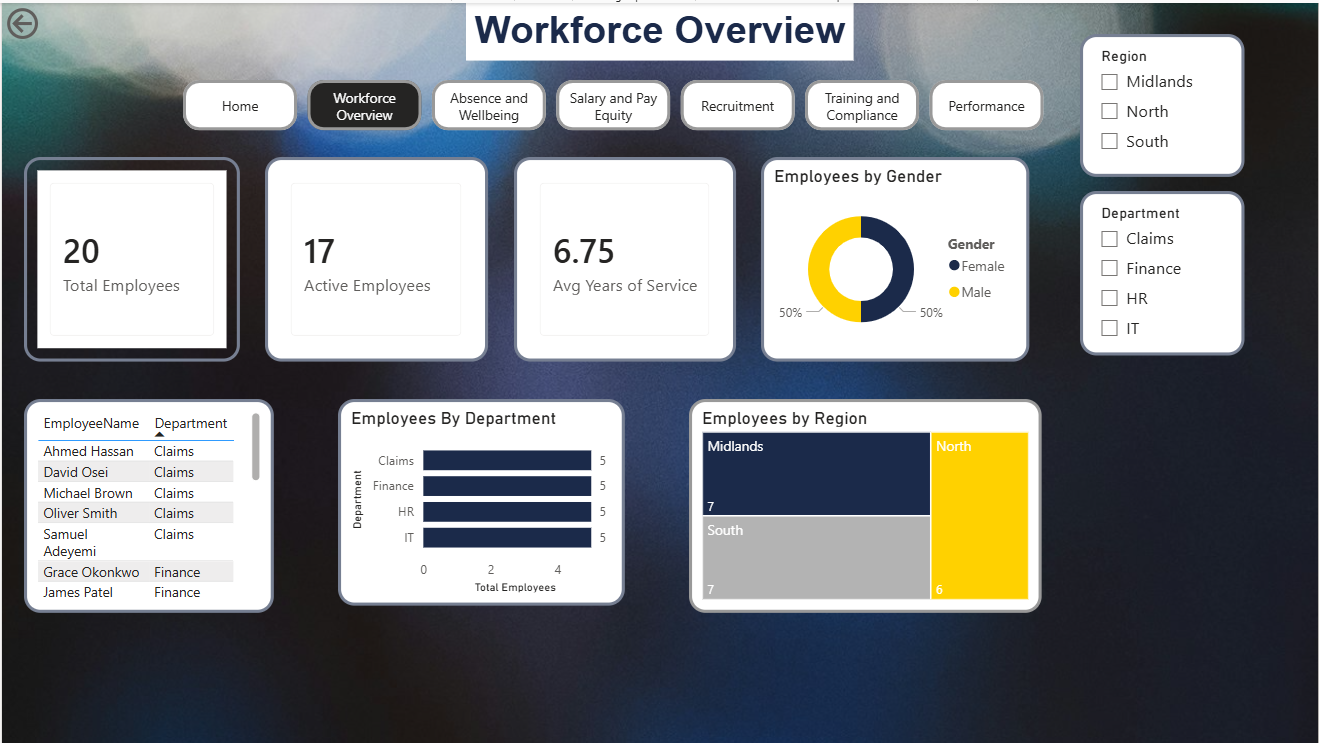

The dashboard page shown, as its layout file describes it:
{"tool":"powerbi","page":{"name":"Workforce Overview","canvas":[1280,720],"ordinal":1},"visuals":[{"type":"textbox","box":[451.3,0,377.4,56.4],"z":0},{"type":"cardVisual","fields":{"Data":["CountNonNull(vw_WorkforceOverview.EmployeeID)"]},"box":[21.4,149.8,210.1,199.4],"z":1000},{"type":"pageNavigator","box":[265.5,74.9,748.9,49.6],"z":2000},{"type":"cardVisual","fields":{"Data":["CountNonNull(vw_WorkforceOverview.EmployeeID)"]},"box":[256.1,149.8,216.9,199.4],"z":3000},{"type":"cardVisual","fields":{"Data":["Avg(vw_WorkforceOverview.YearsOfService)"]},"box":[497.7,149.8,215.9,199.4],"z":4000},{"type":"donutChart","title":"Employees by Gender","fields":{"Y":["CountNonNull(vw_WorkforceOverview.EmployeeID)"],"Category":["vw_WorkforceOverview.Gender"]},"box":[738.2,149.8,260.7,199.4],"z":5000},{"type":"clusteredBarChart","title":"Employees By Department","fields":{"Category":["vw_WorkforceOverview.Department"],"Y":["CountNonNull(vw_WorkforceOverview.EmployeeID)"]},"box":[228.3,435.7,249,208.1],"z":6000},{"type":"clusteredBarChart","title":"Employees by Region","fields":{"Y":["CountNonNull(vw_WorkforceOverview.EmployeeID)"],"Category":["vw_WorkforceOverview.Region"]},"box":[481.9,435.7,249,213],"z":7000},{"type":"clusteredBarChart","title":"Employees by Job Grade","fields":{"Y":["CountNonNull(vw_WorkforceOverview.EmployeeID)"],"Category":["vw_WorkforceOverview.JobGrade"]},"box":[735.6,435.7,208.1,215.9],"z":8000},{"type":"clusteredBarChart","title":"Employees by Ethnicity","fields":{"Y":["CountNonNull(vw_WorkforceOverview.EmployeeID)"],"Category":["vw_WorkforceOverview.Ethnicity"]},"box":[948.3,435.7,331.7,215.9],"z":9000},{"type":"slicer","fields":{"Values":["vw_WorkforceOverview.Region"]},"box":[1048.5,30.2,160.5,139.1],"z":10000},{"type":"slicer","fields":{"Values":["vw_WorkforceOverview.Department"]},"box":[1049.5,180.9,159.5,159.5],"z":11000},{"type":"actionButton","box":[0,0,100,40],"z":12000},{"type":"tableEx","fields":{"Values":["Employees.EmployeeName","Employees.Department"]},"box":[0,435.7,223.7,208.1],"z":13000}]}

Visuals, with their boxes in screenshot pixels (x1, y1, x2, y2), scaled from the page's 1280x720 canvas onto the 1319x743 screenshot:
textbox: (465,0,854,58)
cardVisual - CountNonNull(vw_WorkforceOverview.EmployeeID): (22,155,239,360)
pageNavigator: (274,77,1045,128)
cardVisual - CountNonNull(vw_WorkforceOverview.EmployeeID): (264,155,487,360)
cardVisual - Avg(vw_WorkforceOverview.YearsOfService): (513,155,735,360)
"Employees by Gender" donutChart: (761,155,1029,360)
"Employees By Department" clusteredBarChart: (235,450,492,664)
"Employees by Region" clusteredBarChart: (497,450,753,669)
"Employees by Job Grade" clusteredBarChart: (758,450,972,672)
"Employees by Ethnicity" clusteredBarChart: (977,450,1318,672)
slicer - vw_WorkforceOverview.Region: (1080,31,1246,175)
slicer - vw_WorkforceOverview.Department: (1081,187,1246,351)
actionButton: (0,0,103,41)
tableEx - Employees.EmployeeName x Employees.Department: (0,450,231,664)
